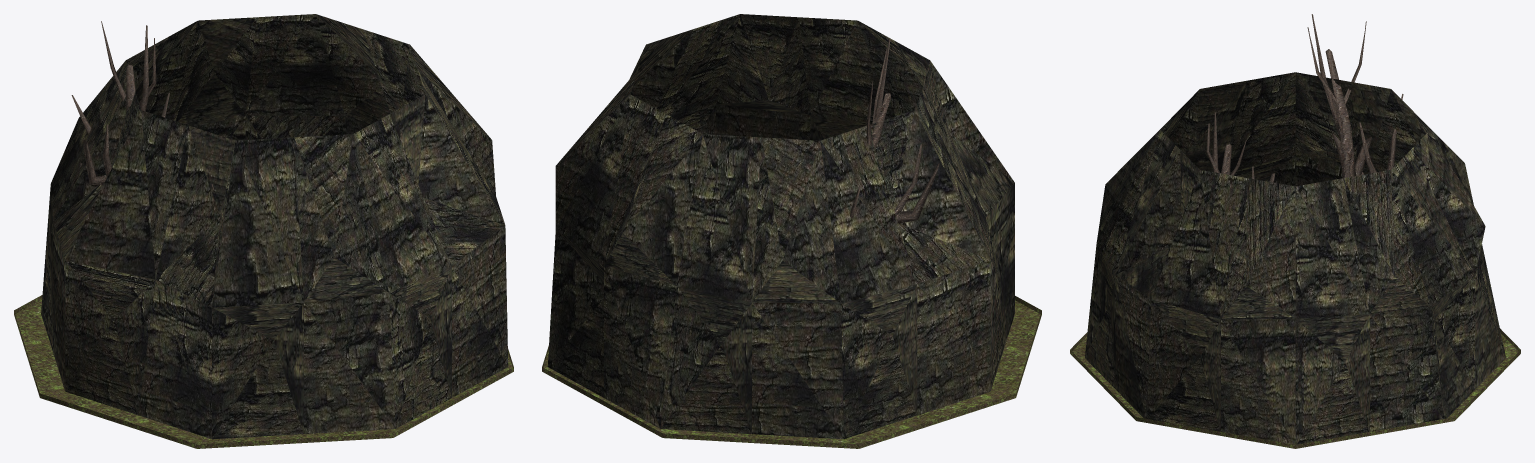
The model's file is cave.obj.
3 renders of one model, left to right at view 1: azimuth 30°, elevation 25°; view 2: azimuth 150°, elevation 25°; view 3: azimuth 270°, elevation 25°, orthographic. The views are drawn at different scales.
Visible parts, largest first — view 1: Walls, Ground, OldTree; view 2: Walls, Ground, OldTree; view 3: Walls, OldTree, Ground.
Part boxes in pixels (left/top/right/bottom): Walls: left=41, top=14, right=508, bottom=439; Ground: left=14, top=295, right=513, bottom=448; OldTree: left=71, top=21, right=213, bottom=189; Walls: left=547, top=14, right=1014, bottom=439; Ground: left=542, top=296, right=1041, bottom=448; OldTree: left=850, top=39, right=943, bottom=229; Walls: left=1085, top=72, right=1505, bottom=444; OldTree: left=1206, top=14, right=1403, bottom=182; Ground: left=1070, top=328, right=1520, bottom=448.
Size of the model in its own units: 21.4 by 16.68 by 21.4.
Materials: 4 (4 with a texture image).
